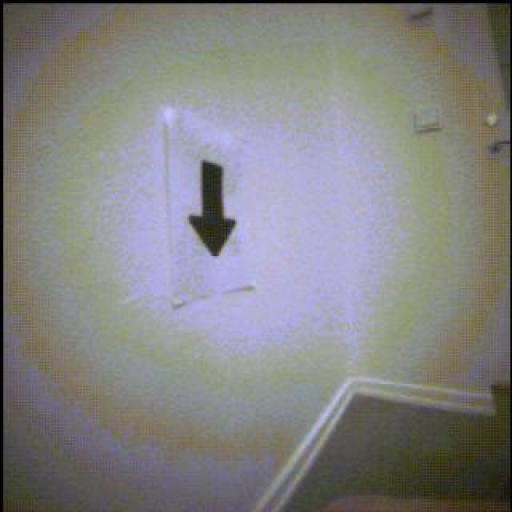Arrow: (190, 163, 236, 257)
